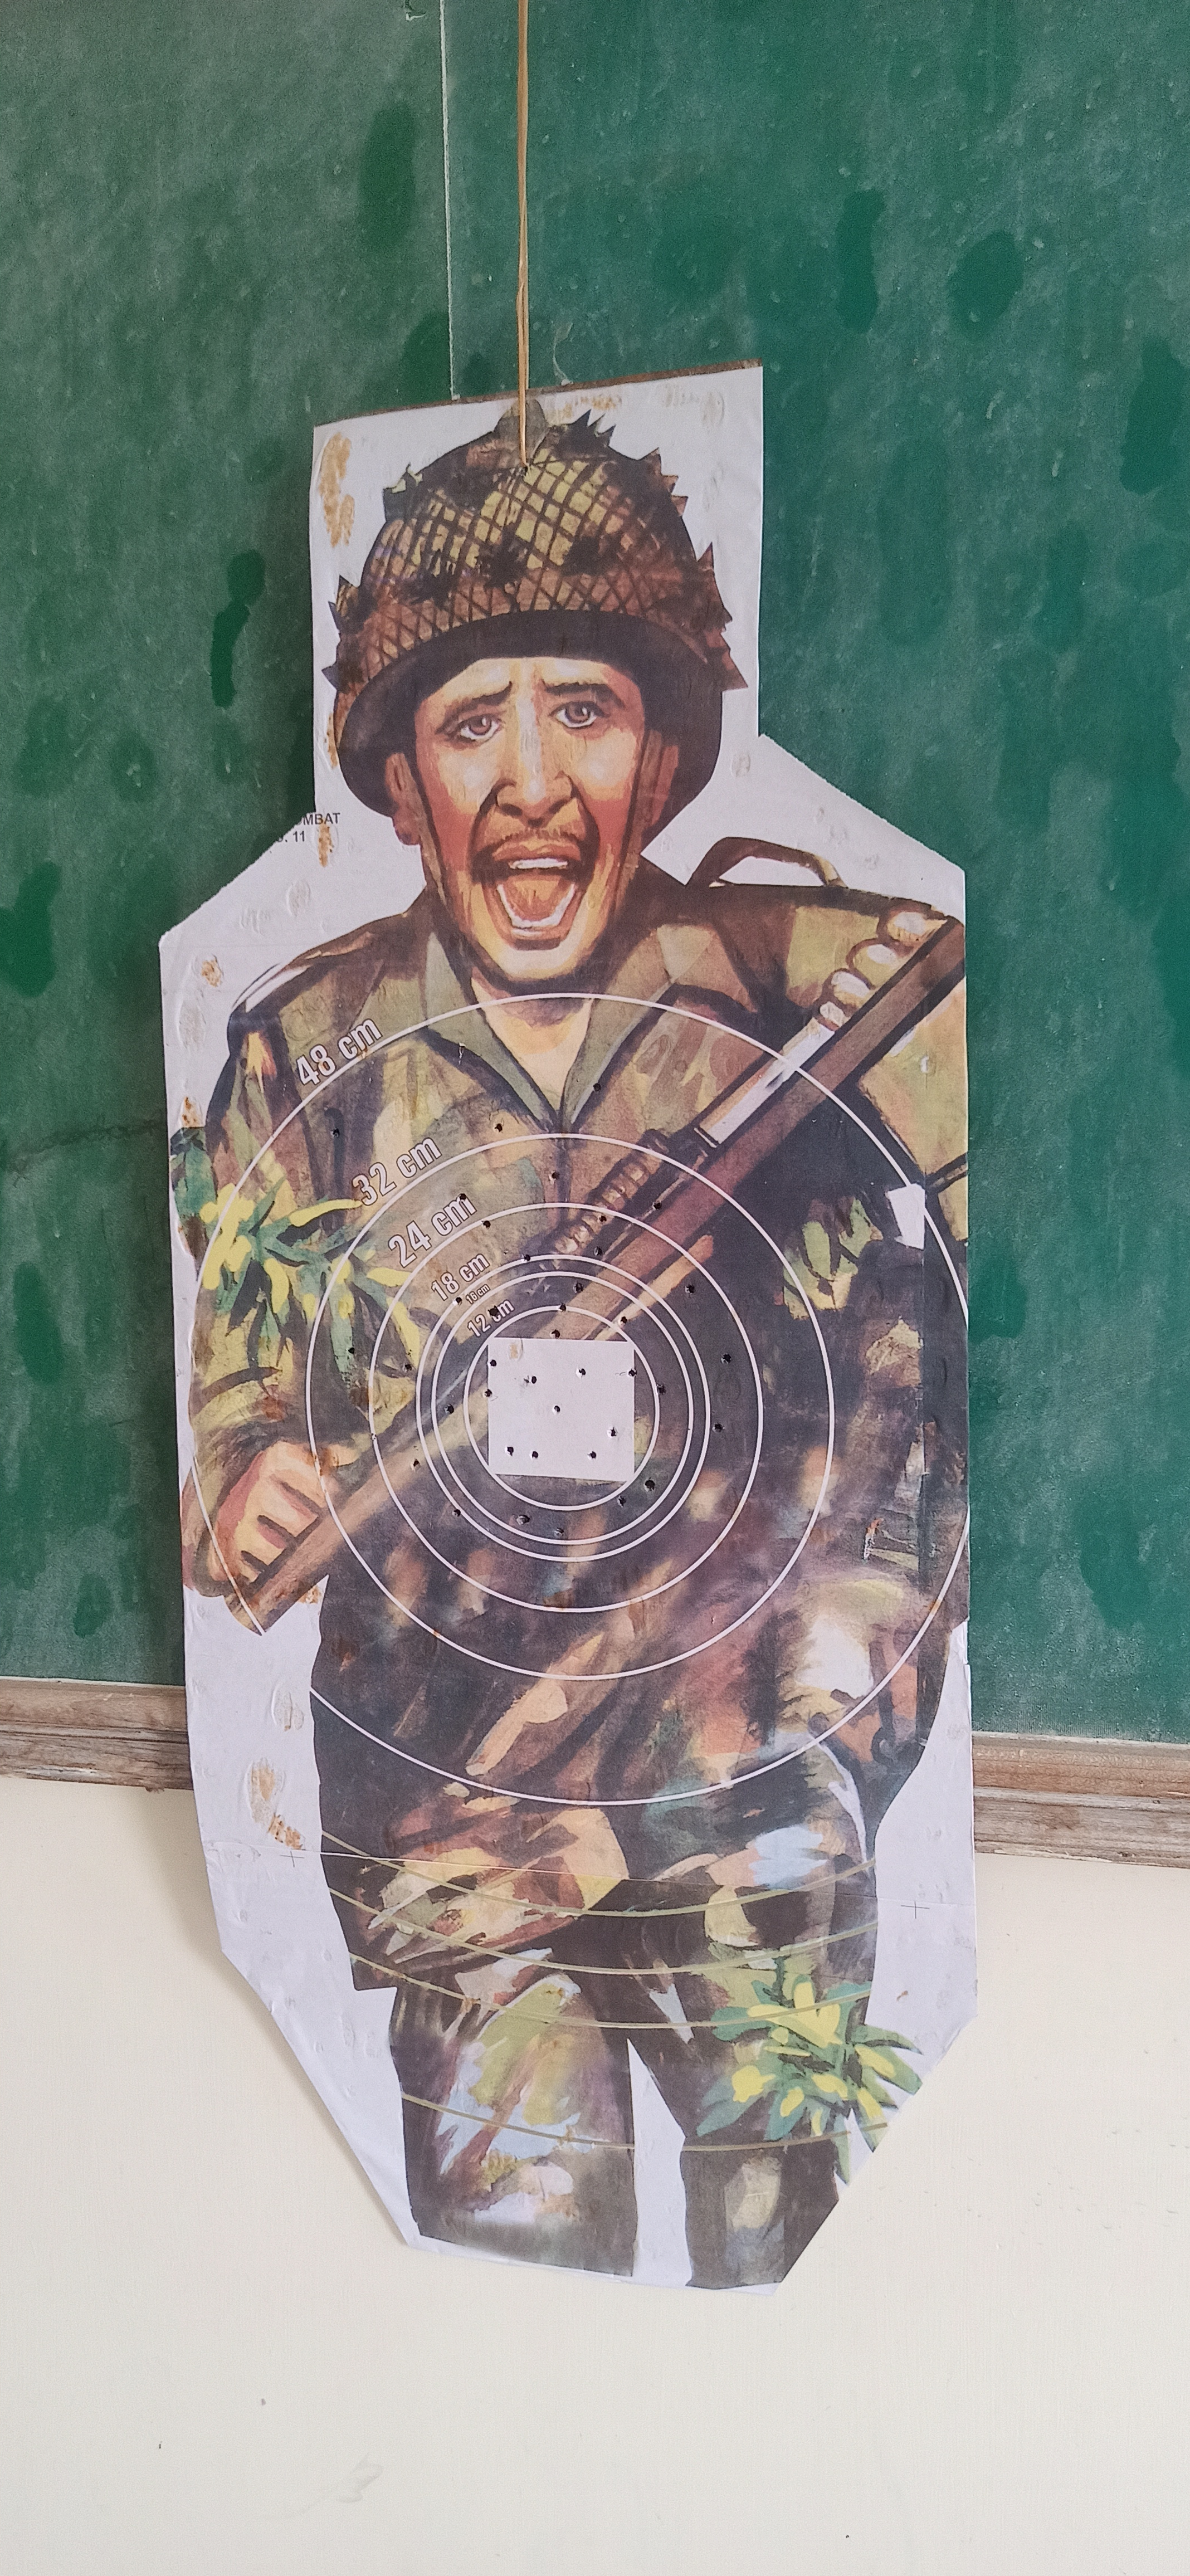bullet hit: (646, 1198, 669, 1216), (546, 1166, 565, 1186), (325, 1124, 347, 1142), (514, 1511, 534, 1529), (490, 1120, 508, 1138), (590, 1076, 607, 1096), (442, 1401, 459, 1419), (718, 1350, 735, 1367), (485, 1306, 501, 1322), (643, 1477, 657, 1495), (615, 1495, 630, 1511), (344, 1344, 358, 1360), (455, 1188, 470, 1204), (583, 1449, 602, 1462), (607, 1426, 621, 1441), (575, 1367, 590, 1382), (684, 1283, 699, 1298), (409, 1457, 424, 1472), (654, 1382, 667, 1398), (551, 1525, 567, 1538), (574, 1280, 587, 1296), (616, 1311, 630, 1327), (595, 1214, 613, 1226), (590, 1244, 603, 1258), (551, 1401, 564, 1416), (503, 1446, 518, 1459), (710, 1423, 725, 1436), (447, 1508, 464, 1520), (526, 1375, 539, 1388), (557, 1301, 569, 1316), (482, 1390, 496, 1401), (529, 1449, 541, 1464), (547, 1329, 564, 1339), (626, 1368, 639, 1380), (454, 1295, 465, 1308), (480, 1217, 491, 1230), (521, 1250, 533, 1263), (403, 1360, 413, 1373), (487, 1359, 498, 1368)
white box: (485, 1336, 636, 1487)
